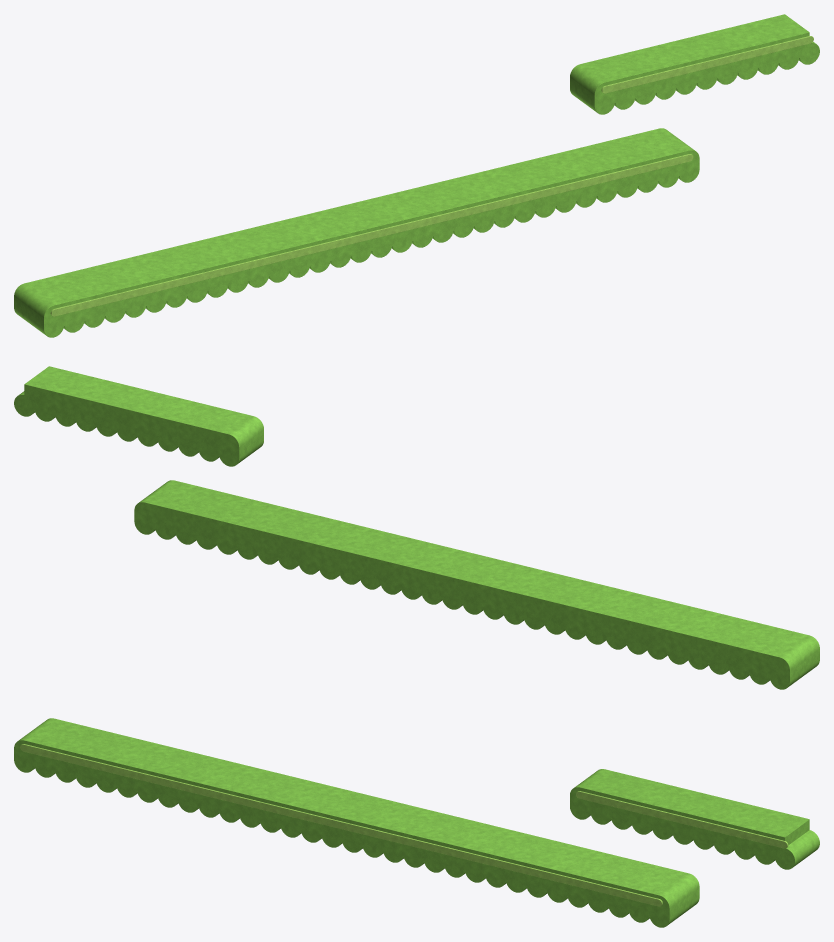
Rendered from gras_level5.glb.
The picture shows the model from 3 angles, top to bottom: view 1: azimuth 30°, elevation 25°; view 2: azimuth 150°, elevation 25°; view 3: azimuth 330°, elevation 25°; orthographic projection.
Visible parts, largest first — view 1: gras_L5_01, gras_L5_02; view 2: gras_L5_01, gras_L5_02; view 3: gras_L5_01, gras_L5_02.
Part boxes in pixels (bbox=[...]): gras_L5_01: bbox=[14, 128, 699, 337]; gras_L5_02: bbox=[570, 14, 819, 114]; gras_L5_01: bbox=[134, 480, 819, 689]; gras_L5_02: bbox=[14, 366, 263, 466]; gras_L5_01: bbox=[14, 718, 699, 927]; gras_L5_02: bbox=[570, 769, 819, 869].
Size of the model in its own units: 22.8 by 3.31 by 1.56.
2 materials, 2 textured.
